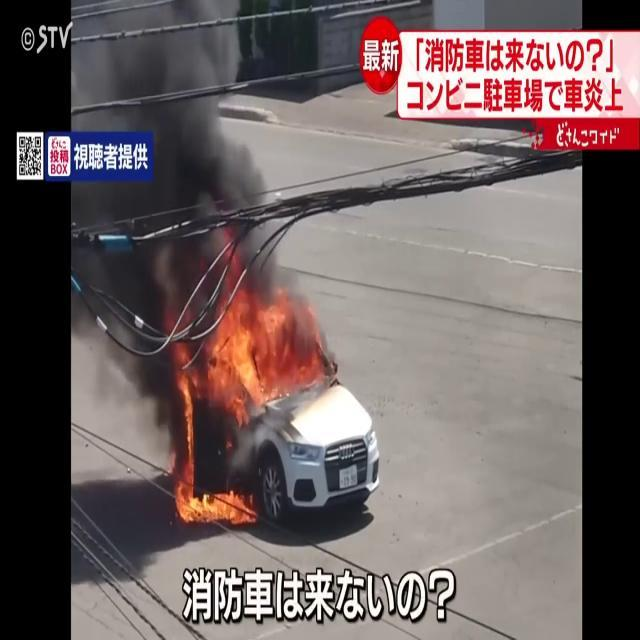Fire: (171, 286, 332, 467), (178, 481, 256, 528)
Smoke: (71, 0, 281, 294)
